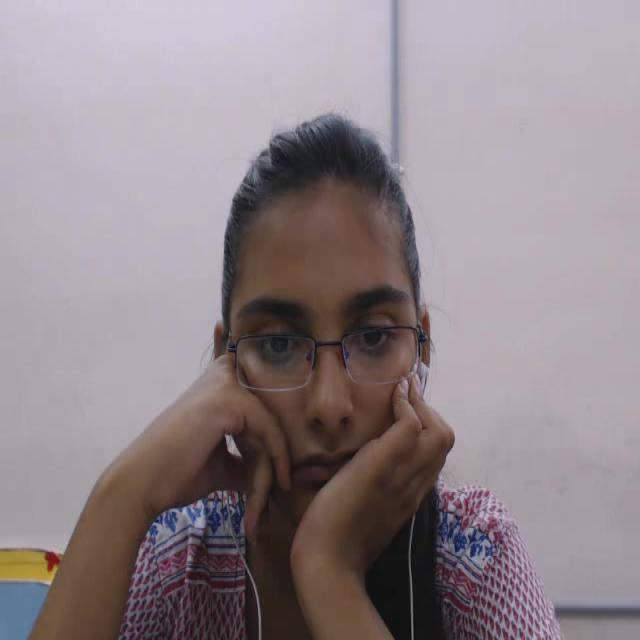Bored: (214, 95, 442, 538)
